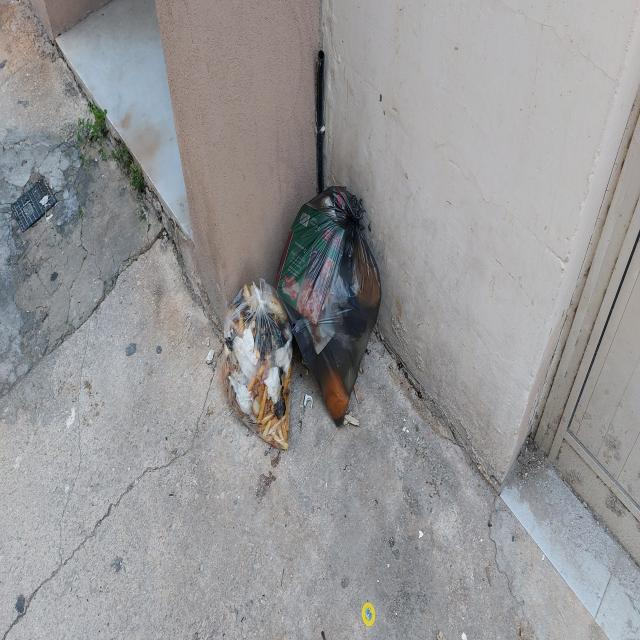Mixed Waste -Black Bag-: (286, 183, 383, 429)
Organic Waste -White Bag-: (222, 282, 295, 451)
